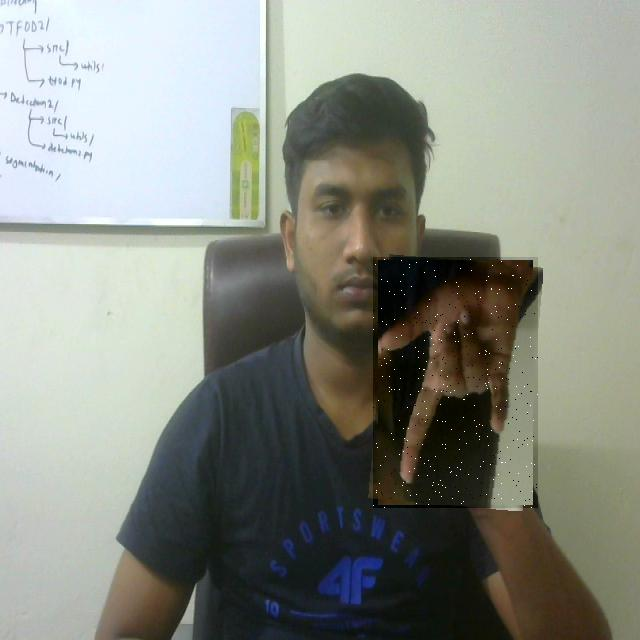IloveYou: (373, 257, 538, 508)
